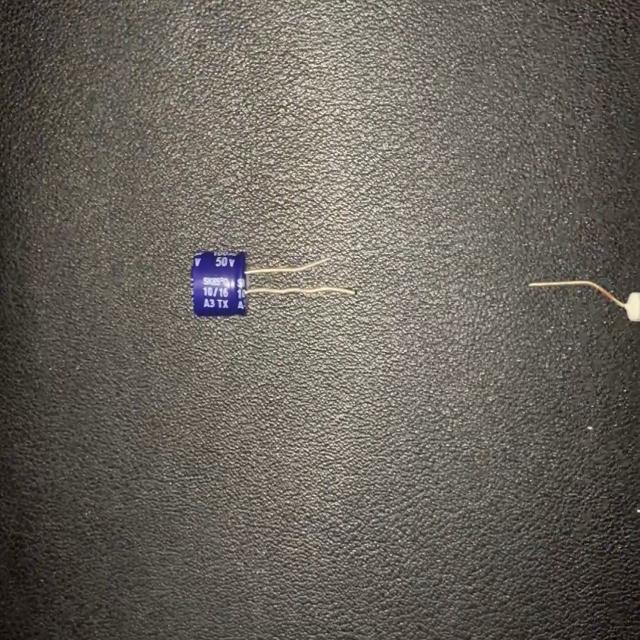capacitor: (188, 245, 360, 321)
